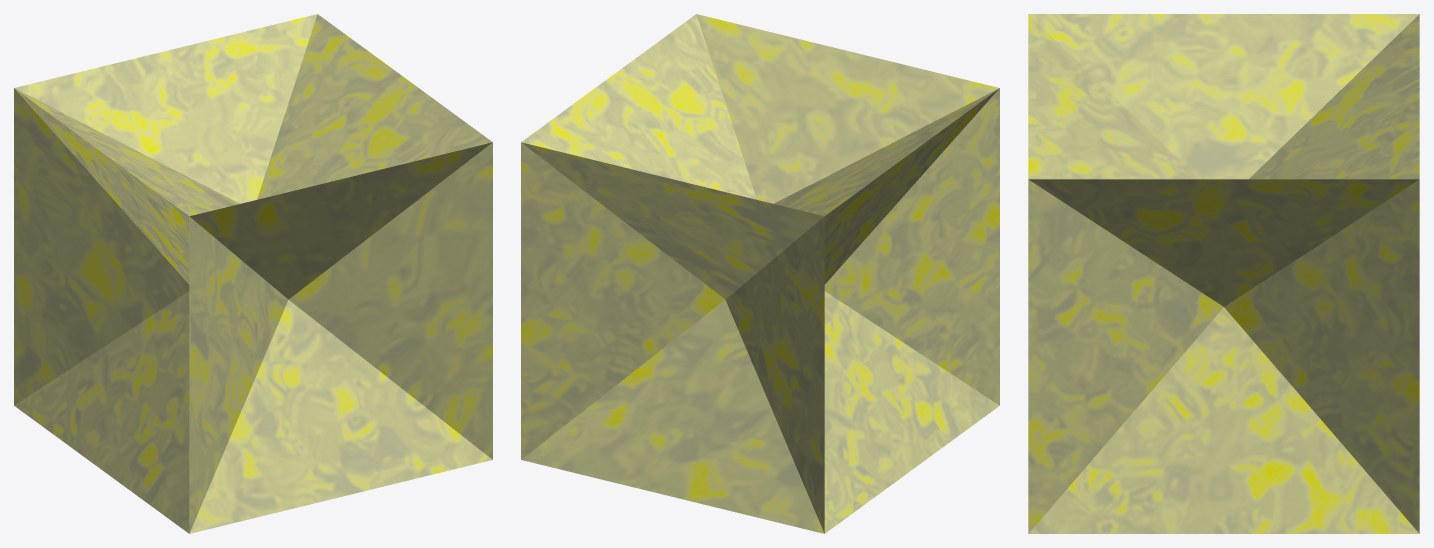
The model's file is carbon-fiber.glb.
3 renders of one model, left to right at view 1: azimuth 30°, elevation 25°; view 2: azimuth 150°, elevation 25°; view 3: azimuth 270°, elevation 25°, orthographic. The views are drawn at different scales.
Visible parts, largest first — view 1: carbon-fiber; view 2: carbon-fiber; view 3: carbon-fiber.
Part boxes in pixels (<box>): carbon-fiber: <box>14,14,492,533</box>; carbon-fiber: <box>521,14,999,533</box>; carbon-fiber: <box>1028,14,1419,533</box>.
Bounding box in the file's own units: 1 × 1 × 1.
1 material, 1 textured.
